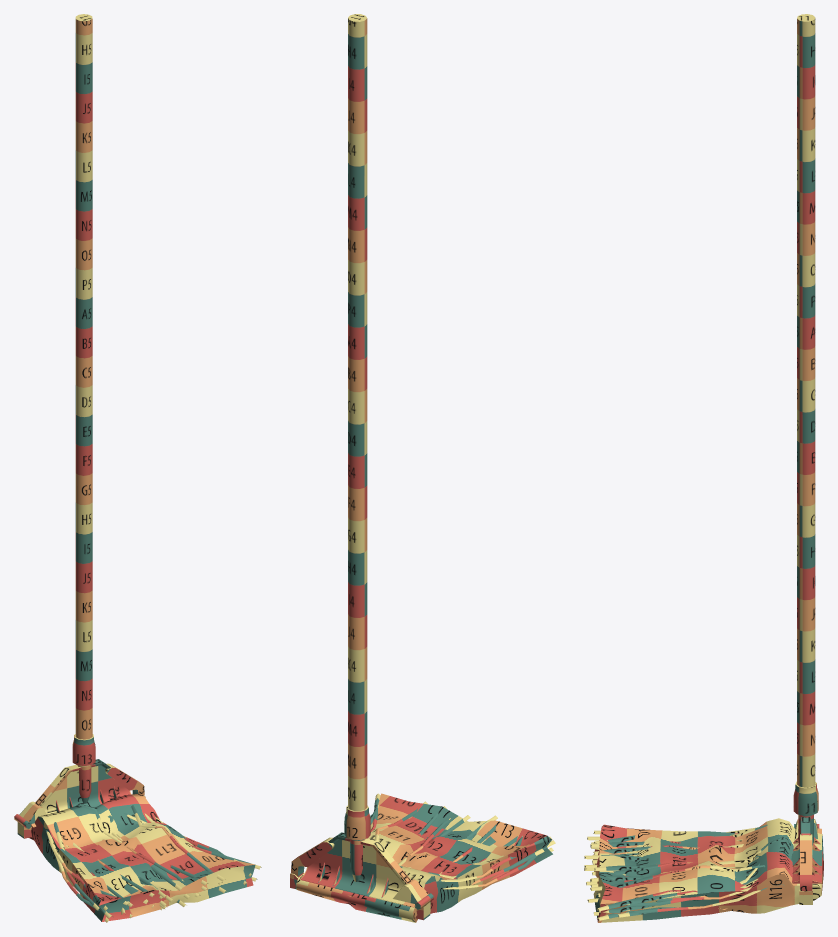
Rendered from SM_Mop_01a.fbx.
3 renders of one model, left to right at view 1: azimuth 30°, elevation 25°; view 2: azimuth 150°, elevation 25°; view 3: azimuth 270°, elevation 25°, orthographic. The views are drawn at different scales.
Parts seen in each view (by area): view 1: SM_Mop_01a; view 2: SM_Mop_01a; view 3: SM_Mop_01a.
Part boxes in pixels (left/top/right/bottom): SM_Mop_01a: left=14, top=14, right=261, bottom=922; SM_Mop_01a: left=290, top=14, right=555, bottom=922; SM_Mop_01a: left=584, top=14, right=823, bottom=922.
Bounding box in the file's own units: 32.54 × 157 × 39.18.
1 material, 1 textured.
